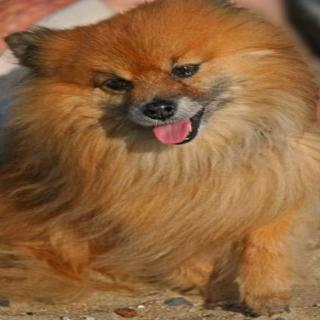dog: (15, 0, 315, 158)
nose: (142, 95, 176, 124)
